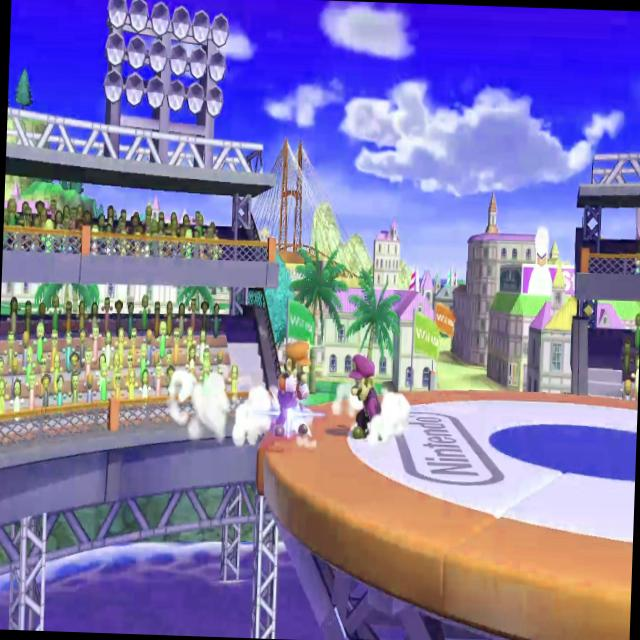Mario: (268, 329, 320, 447), (341, 346, 392, 448)
